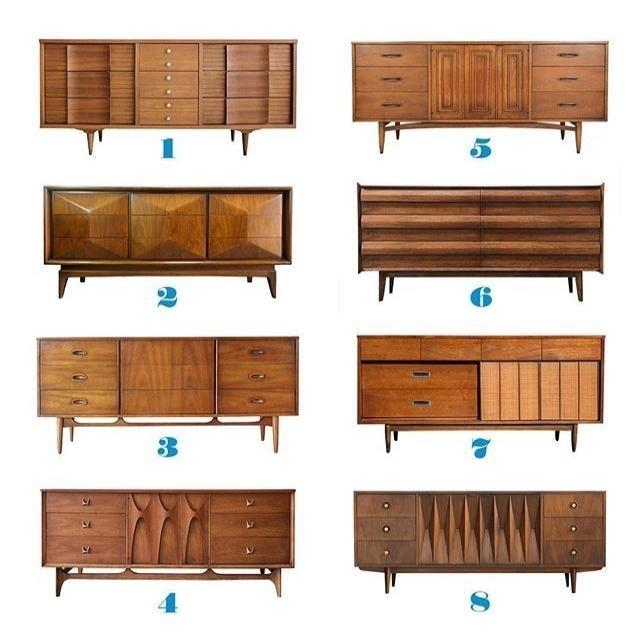obstacle: (36, 336, 299, 454), (38, 38, 297, 156), (351, 39, 608, 154), (356, 334, 605, 452), (357, 184, 604, 301), (42, 184, 292, 298), (40, 489, 295, 598), (353, 489, 606, 594)
